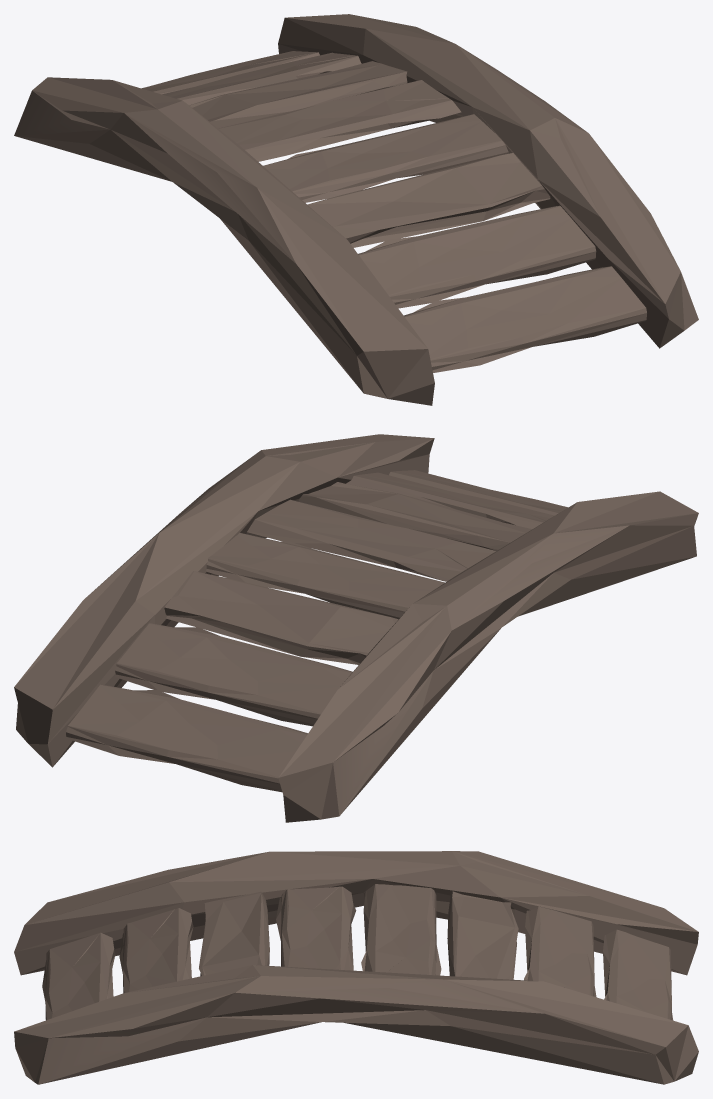
Rendered from Bridge.fbx.
3 views of the same model, one above another, from view 1: azimuth 30°, elevation 25°; view 2: azimuth 150°, elevation 25°; view 3: azimuth 270°, elevation 25° (orthographic). The views are drawn at different scales.
Visible parts, largest first — view 1: Bridge; view 2: Bridge; view 3: Bridge.
Part boxes in pixels (x1,y1,x2,y2): Bridge: [14, 14, 698, 405]; Bridge: [14, 434, 698, 822]; Bridge: [14, 851, 698, 1084].
Size of the model in its own units: 8.08 by 16.06 by 2.9.
